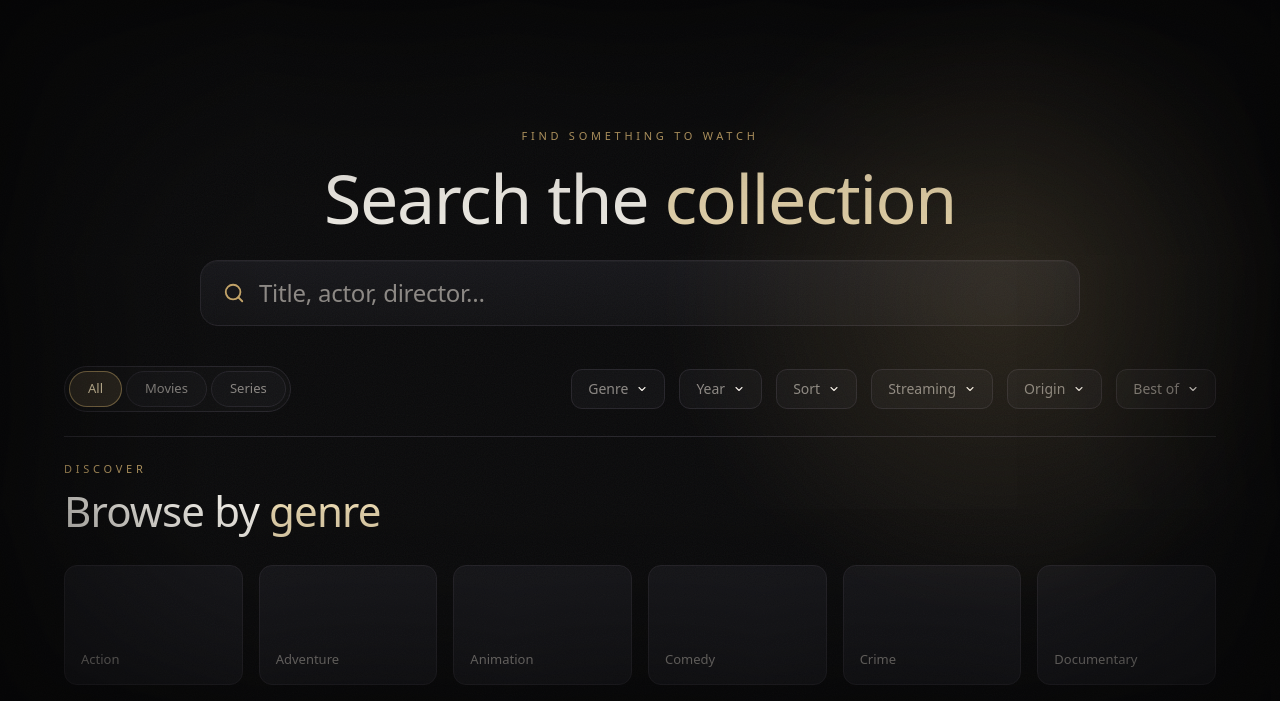
Test: SearchView › search hero › shows a clear button when there is input text
In the search field: (658, 293) 259,277 -> 1057,309, type "blade"
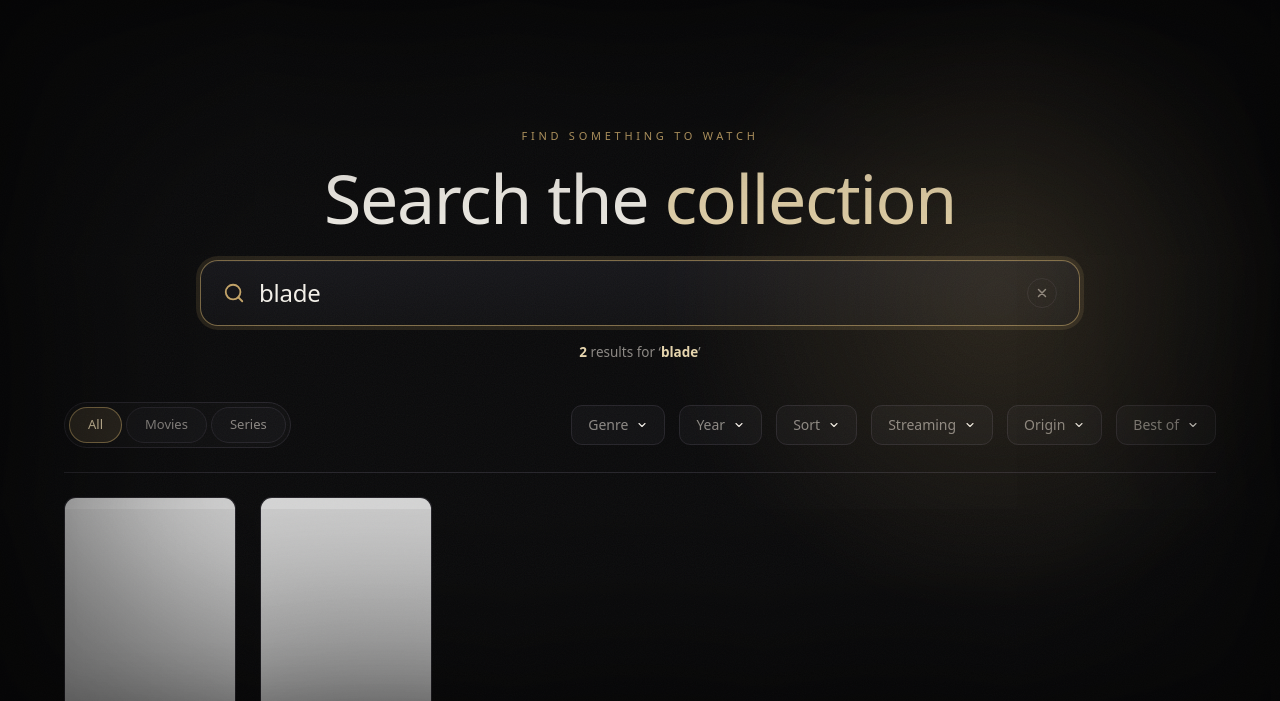
Result: the button named "Clear search" is shown at 1027,278 -> 1057,308
